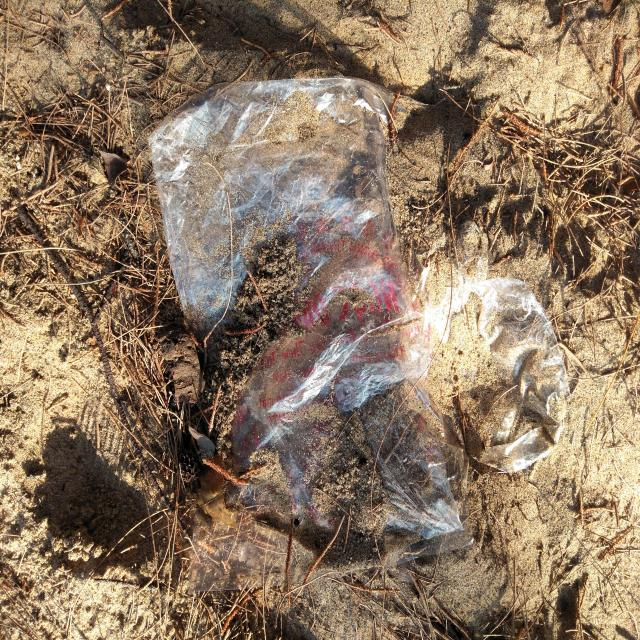litter: (147, 76, 467, 589), (411, 219, 565, 471)
